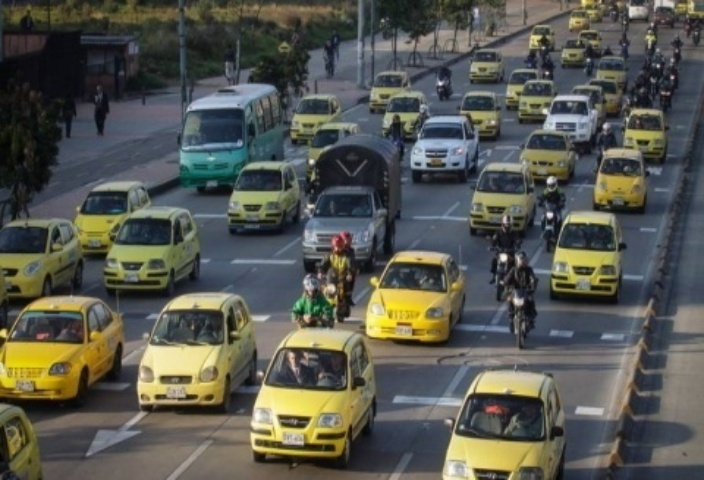bus: (166, 68, 293, 194)
camper: (414, 109, 485, 177), (538, 89, 601, 146)
motorcycle: (503, 254, 546, 355), (296, 267, 337, 363), (324, 234, 360, 314), (486, 219, 516, 299), (654, 73, 684, 114), (432, 62, 455, 96), (674, 33, 683, 67)
taxi: (255, 326, 377, 465), (429, 366, 576, 480), (1, 292, 123, 404), (136, 291, 253, 406), (2, 210, 105, 308), (367, 251, 463, 343), (111, 214, 207, 290), (552, 213, 632, 303), (227, 152, 300, 234), (74, 185, 160, 254), (465, 165, 540, 234), (519, 130, 574, 190), (452, 88, 508, 146), (599, 148, 651, 210), (618, 106, 674, 163), (304, 121, 368, 170), (294, 94, 343, 142), (371, 63, 420, 111), (596, 53, 641, 102), (383, 98, 427, 138), (514, 82, 551, 124), (504, 64, 544, 102), (592, 78, 630, 117), (468, 49, 504, 84), (579, 29, 611, 65), (528, 21, 558, 45), (567, 40, 586, 63), (568, 14, 587, 32)
truck: (298, 131, 408, 269)
